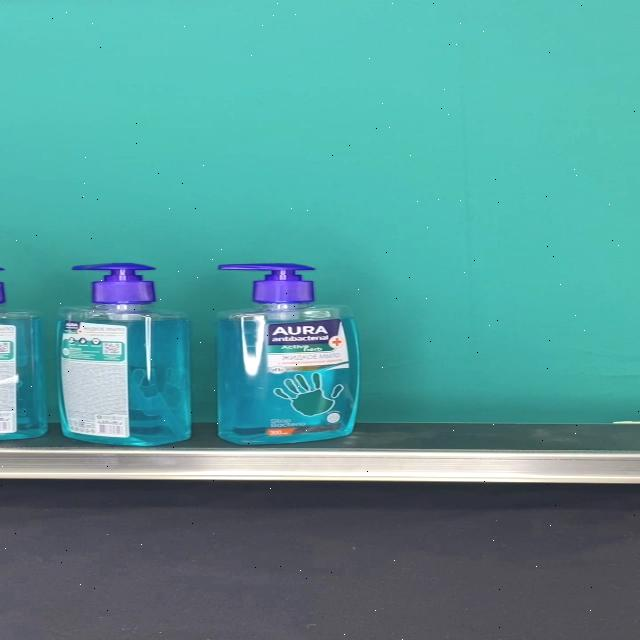Bottle: (217, 262, 359, 444), (55, 262, 192, 444)
Cap: (218, 262, 314, 304), (72, 262, 156, 304)
